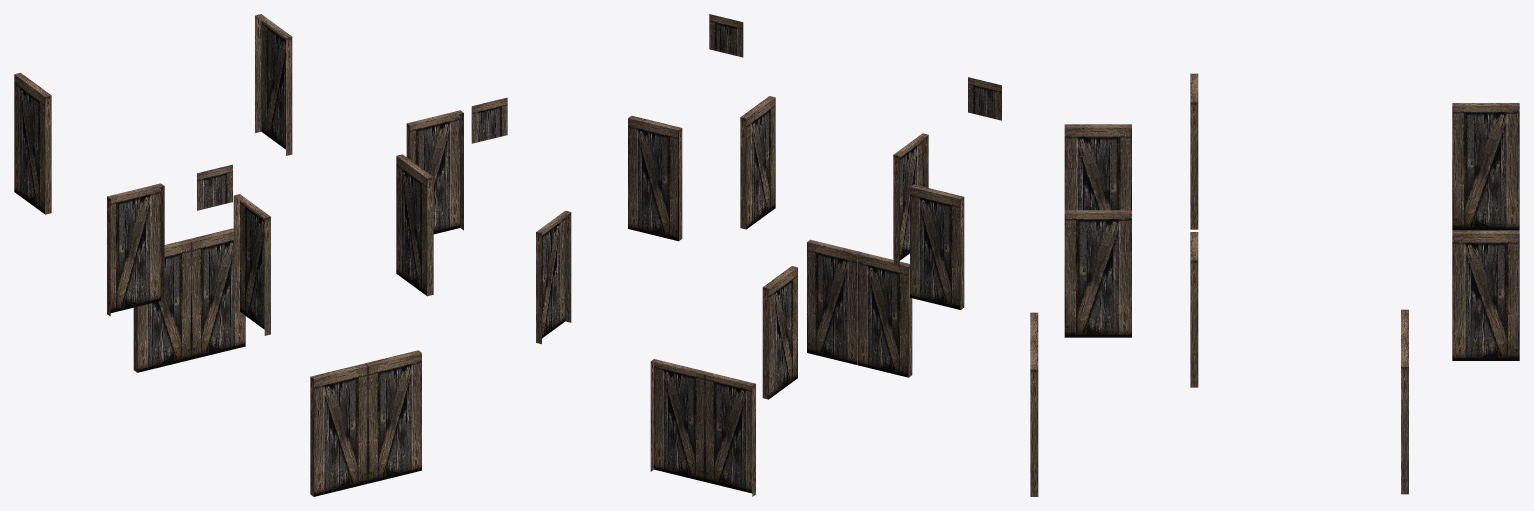
File: celt_fortress_props_1.dae
3 views of the same model, side by side, from view 1: azimuth 30°, elevation 25°; view 2: azimuth 150°, elevation 25°; view 3: azimuth 270°, elevation 25° (orthographic). The views are drawn at different scales.
Parts seen in each view (by area): view 1: gallic_props-Pivot; view 2: gallic_props-Pivot; view 3: gallic_props-Pivot.
Part boxes in pixels (x1,y1,x2,y2): gallic_props-Pivot: (14,14,507,496); gallic_props-Pivot: (536,14,1001,496); gallic_props-Pivot: (1030,73,1519,496).
Size of the model in its own units: 14.53 by 16.11 by 13.43.
